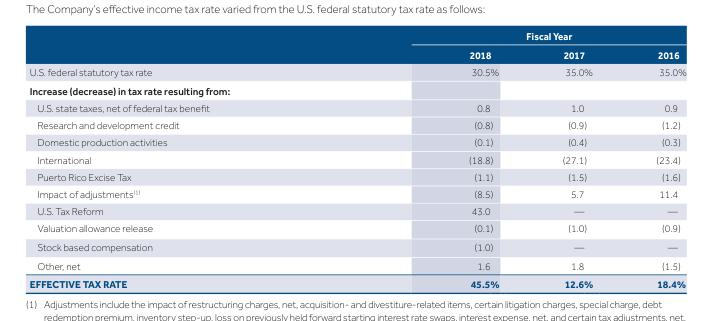table: (28, 28, 685, 289)
table column: (28, 28, 338, 289), (338, 28, 530, 289), (530, 28, 623, 289), (623, 28, 685, 289)
table column header: (28, 28, 685, 64)
table projected row header: (28, 81, 685, 100)
table row: (28, 44, 685, 64), (28, 81, 685, 100), (28, 134, 685, 152), (28, 203, 685, 221), (28, 221, 685, 239), (28, 239, 685, 257), (28, 64, 685, 81), (28, 100, 685, 117), (28, 117, 685, 134), (28, 152, 685, 169), (28, 169, 685, 186), (28, 186, 685, 203), (28, 257, 685, 274), (28, 28, 685, 44), (28, 274, 685, 289)
table spanning cell: (338, 28, 685, 44)
